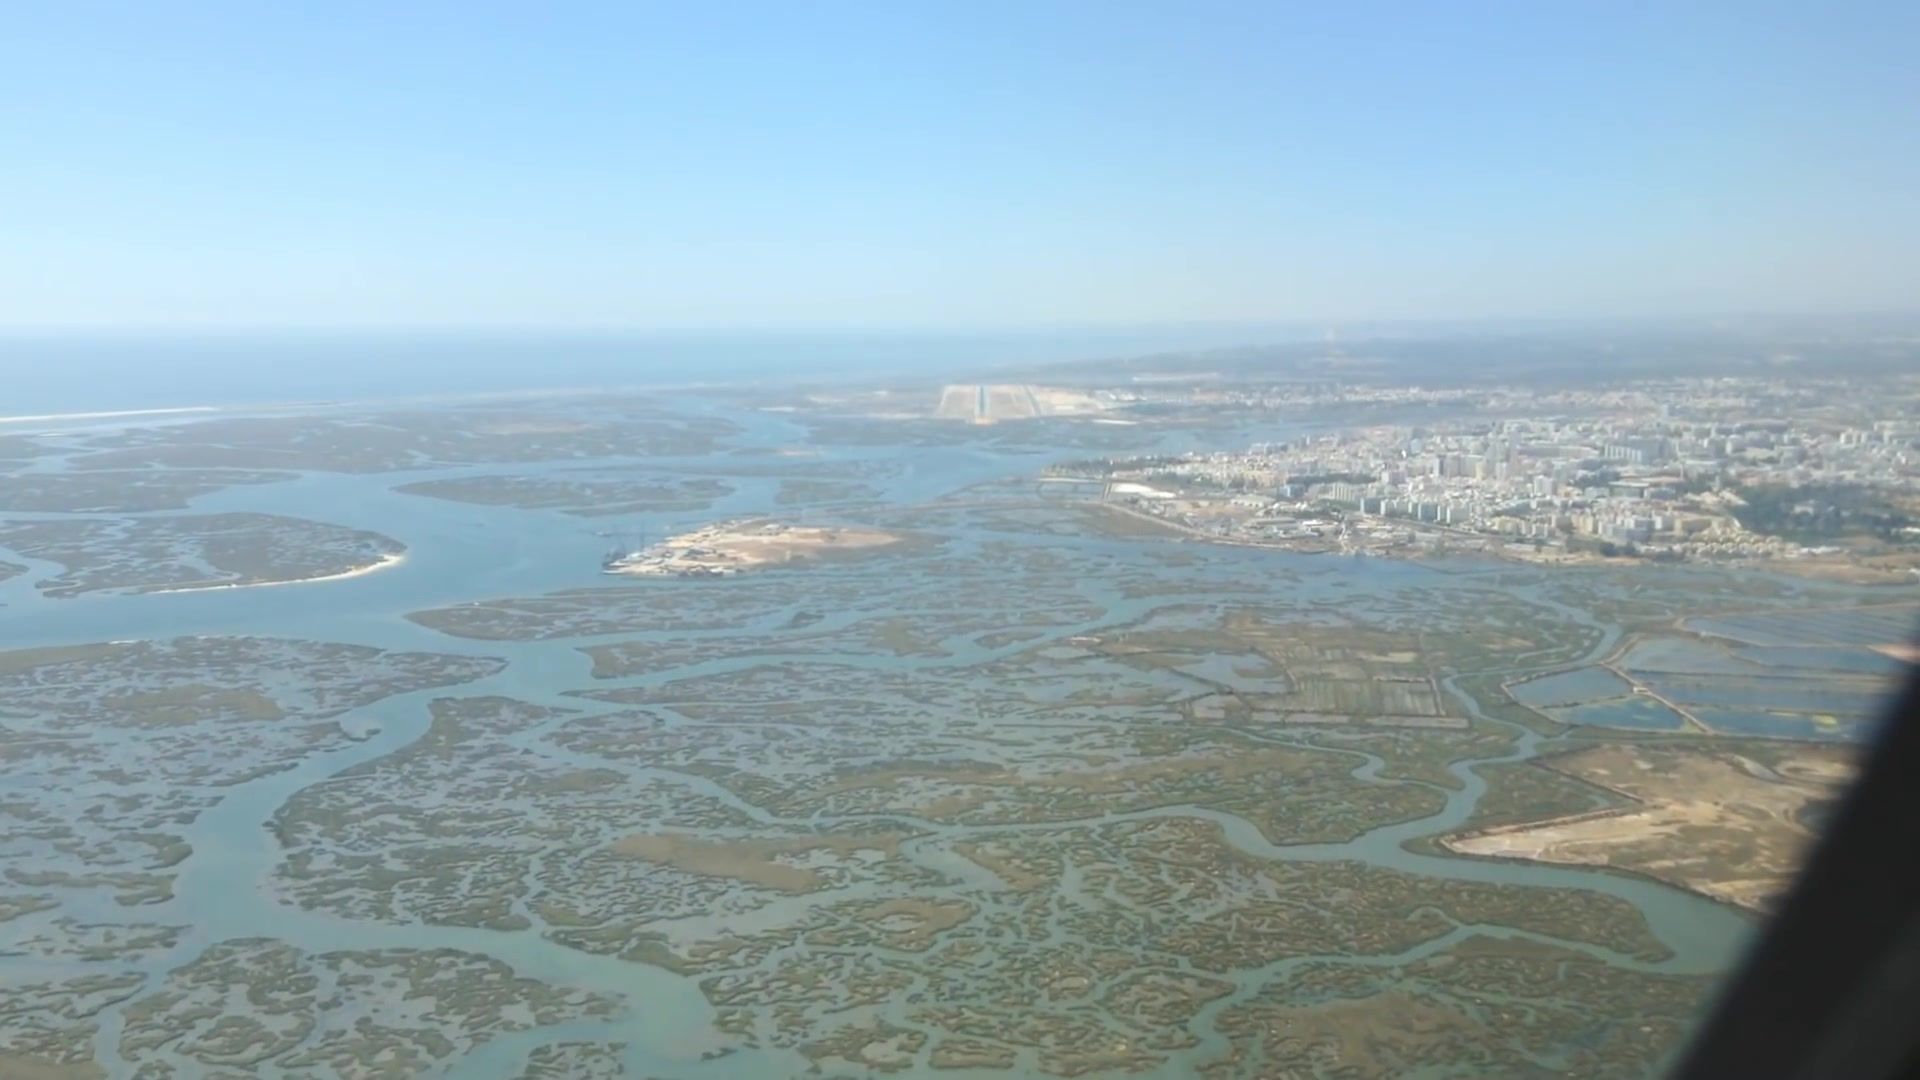runway: (1021, 381, 1048, 417), (973, 384, 996, 425)
